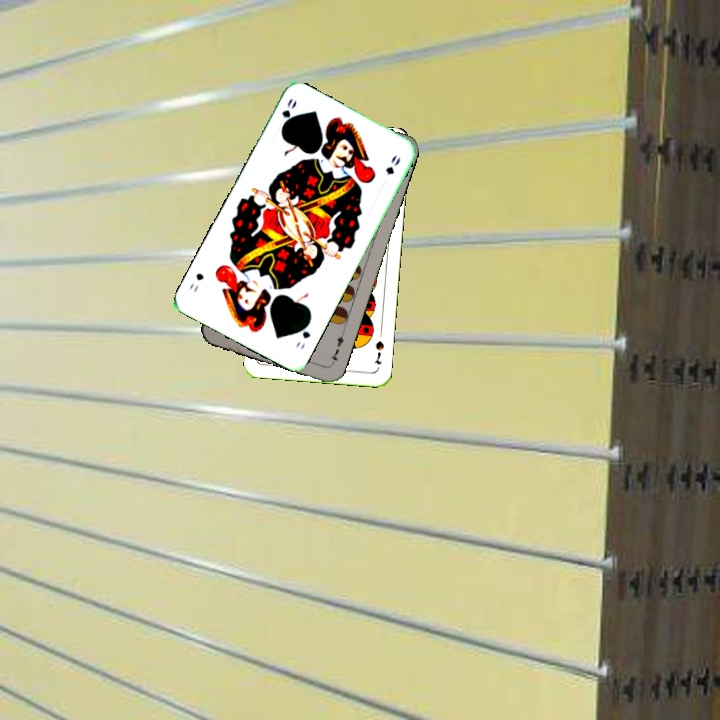E7: (326, 328, 347, 368)
GO: (277, 94, 299, 134), (292, 316, 313, 352)
S7: (371, 336, 386, 367)
